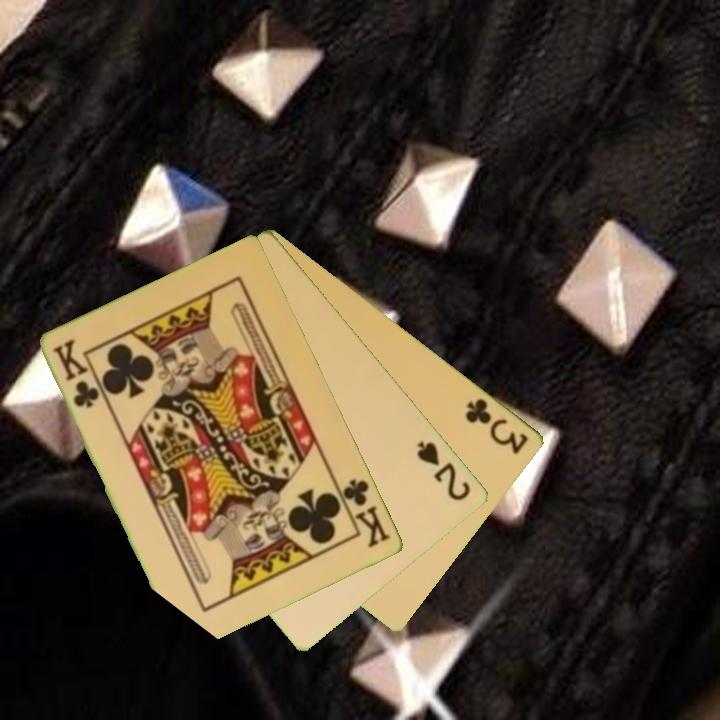2s: (413, 437, 474, 504)
3c: (462, 394, 532, 457)
Kc: (333, 475, 394, 551), (49, 336, 103, 412)
